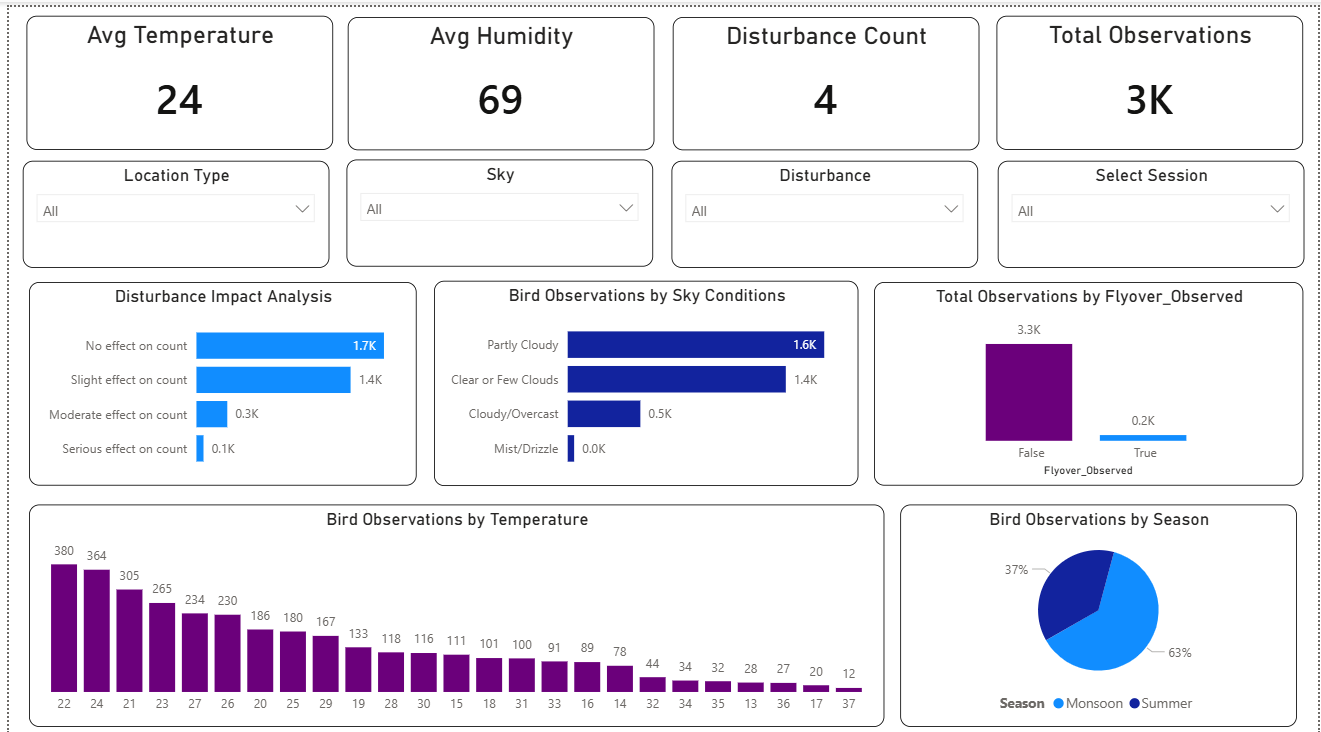

The page's visual inventory and layout, read from the dashboard file:
{"tool":"powerbi","page":{"name":"2 -  Environmental Analysis","canvas":[1280,720],"ordinal":1},"visuals":[{"type":"clusteredColumnChart","title":"Bird Observations by Temperature","fields":{"Category":["Merge_on_Forest&Grassland.Temperature Range"],"Y":["Merge_on_Forest&Grassland.Total Observations"]},"box":[19.8,486.9,836.9,217.6],"z":0},{"type":"clusteredBarChart","title":"Bird Observations by Sky Conditions","fields":{"Category":["Merge_on_Forest&Grassland.Sky"],"Y":["Merge_on_Forest&Grassland.Total Observations"]},"box":[415.4,267.8,415.4,200.9],"z":1000},{"type":"clusteredBarChart","title":"Disturbance Impact Analysis","fields":{"Category":["Merge_on_Forest&Grassland.Disturbance"],"Y":["Merge_on_Forest&Grassland.Total Observations"]},"box":[19.8,269.3,378.9,199.3],"z":2000},{"type":"columnChart","fields":{"Category":["Merge_on_Forest&Grassland.Flyover_Observed"],"Y":["Merge_on_Forest&Grassland.Total Observations"]},"box":[846,269.3,420,199.3],"z":3000},{"type":"pieChart","title":"Bird Observations by Season","fields":{"Category":["Merge_on_Forest&Grassland.Season"],"Y":["Merge_on_Forest&Grassland.Total Observations"]},"box":[871.9,486.9,388,217.6],"z":4000},{"type":"cardVisual","title":"Total Observations","fields":{"Data":["Merge_on_Forest&Grassland.Total Observations"]},"box":[966.3,9.1,299.8,130.9],"z":5000},{"type":"cardVisual","title":"Avg Humidity","fields":{"Data":["Merge_on_Forest&Grassland.Avg Humidity"]},"box":[331.7,9.5,299.8,130],"z":6000},{"type":"cardVisual","title":"Disturbance Count","fields":{"Data":["Merge_on_Forest&Grassland.Disturbance Count"]},"box":[649.7,9.5,299.8,130],"z":7000},{"type":"cardVisual","title":"Avg Temperature","fields":{"Data":["Merge_on_Forest&Grassland.Avg Temperature"]},"box":[16.7,9.1,299.8,130.9],"z":8000},{"type":"slicer","title":"Location Type ","fields":{"Values":["Merge_on_Forest&Grassland.Location_Type"]},"box":[13.7,150.6,299.8,105],"z":8001},{"type":"slicer","title":"Sky","fields":{"Values":["Merge_on_Forest&Grassland.Sky"]},"box":[330.2,149.1,299.8,105],"z":8002},{"type":"slicer","title":"Disturbance","fields":{"Values":["Merge_on_Forest&Grassland.Disturbance"]},"box":[648.2,150.6,299.8,105],"z":8003},{"type":"slicer","title":"Select Observer","fields":{"Values":["Merge_on_Forest&Grassland.Observer"]},"box":[967.8,150.6,299.8,105],"z":8004}]}

Visuals, with their boxes in screenshot pixels (x1, y1, x2, y2), scaled from the page's 1280x720 canvas onto the 1321x732 screenshot:
"Bird Observations by Temperature" clusteredColumnChart: (left=20, top=495, right=884, bottom=716)
"Bird Observations by Sky Conditions" clusteredBarChart: (left=429, top=272, right=857, bottom=477)
"Disturbance Impact Analysis" clusteredBarChart: (left=20, top=274, right=411, bottom=476)
columnChart - Merge_on_Forest&Grassland.Flyover_Observed x Merge_on_Forest&Grassland.Total Observations: (left=873, top=274, right=1307, bottom=476)
"Bird Observations by Season" pieChart: (left=900, top=495, right=1300, bottom=716)
"Total Observations" cardVisual: (left=997, top=9, right=1307, bottom=142)
"Avg Humidity" cardVisual: (left=342, top=10, right=652, bottom=142)
"Disturbance Count" cardVisual: (left=671, top=10, right=980, bottom=142)
"Avg Temperature" cardVisual: (left=17, top=9, right=327, bottom=142)
"Location Type " slicer: (left=14, top=153, right=324, bottom=260)
"Sky" slicer: (left=341, top=152, right=650, bottom=258)
"Disturbance" slicer: (left=669, top=153, right=978, bottom=260)
"Select Observer" slicer: (left=999, top=153, right=1308, bottom=260)
